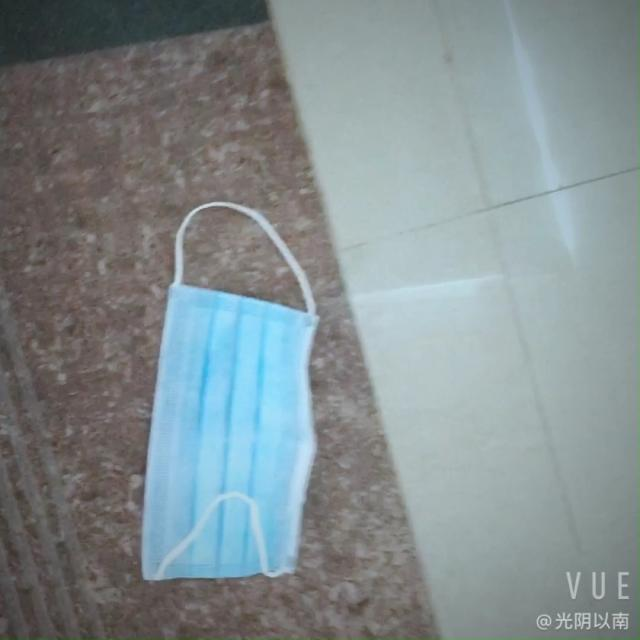non-organic waste: (129, 267, 331, 589)
